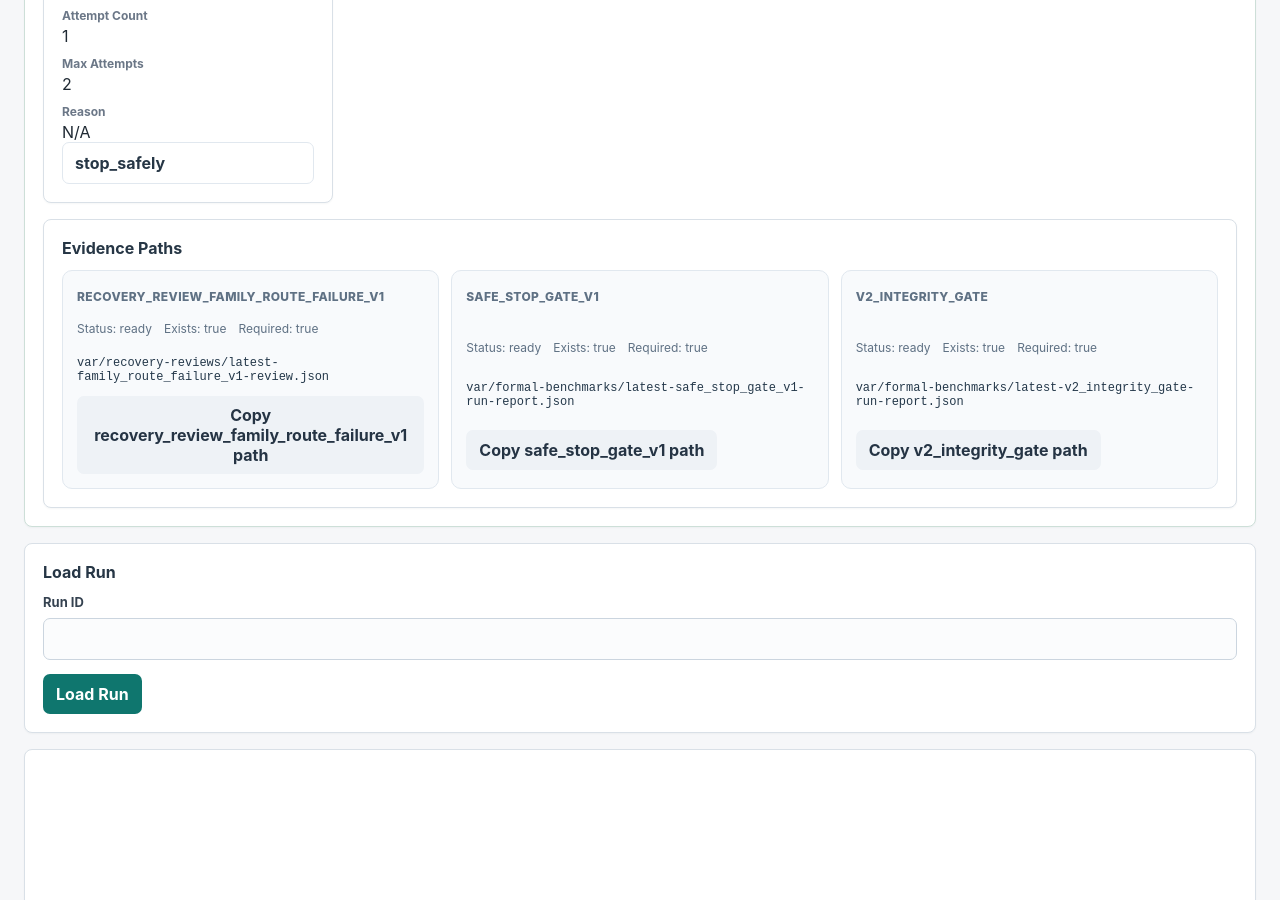
Test: ObservabilityPage › copies an integrity evidence path and shows success feedback
(page scrolled)
Click the button "Copy v2_integrity_gate path".
click(978, 450)  # box [856,430,1101,470]
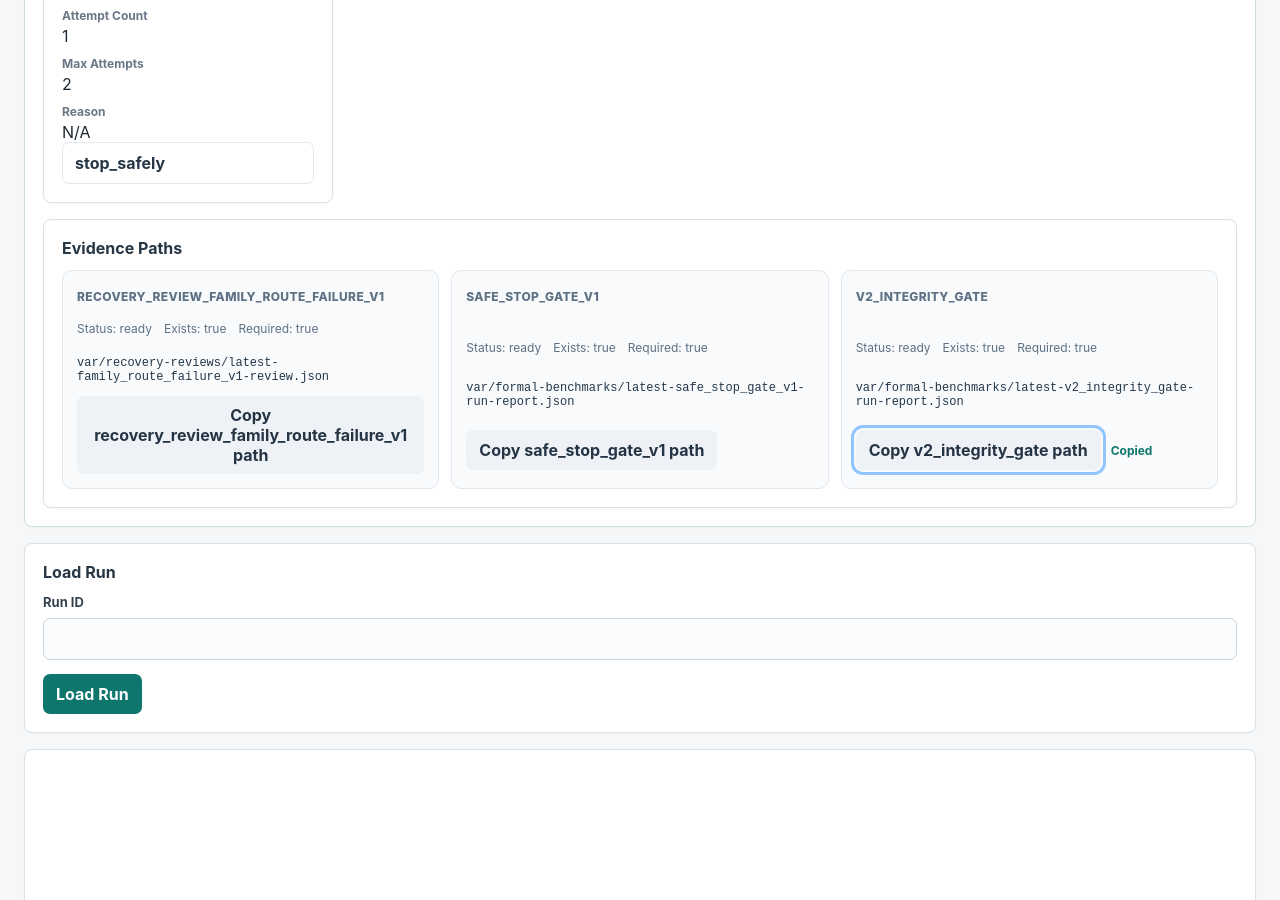
Check: the text "Copied" is shown, box [1111,443,1152,458]
